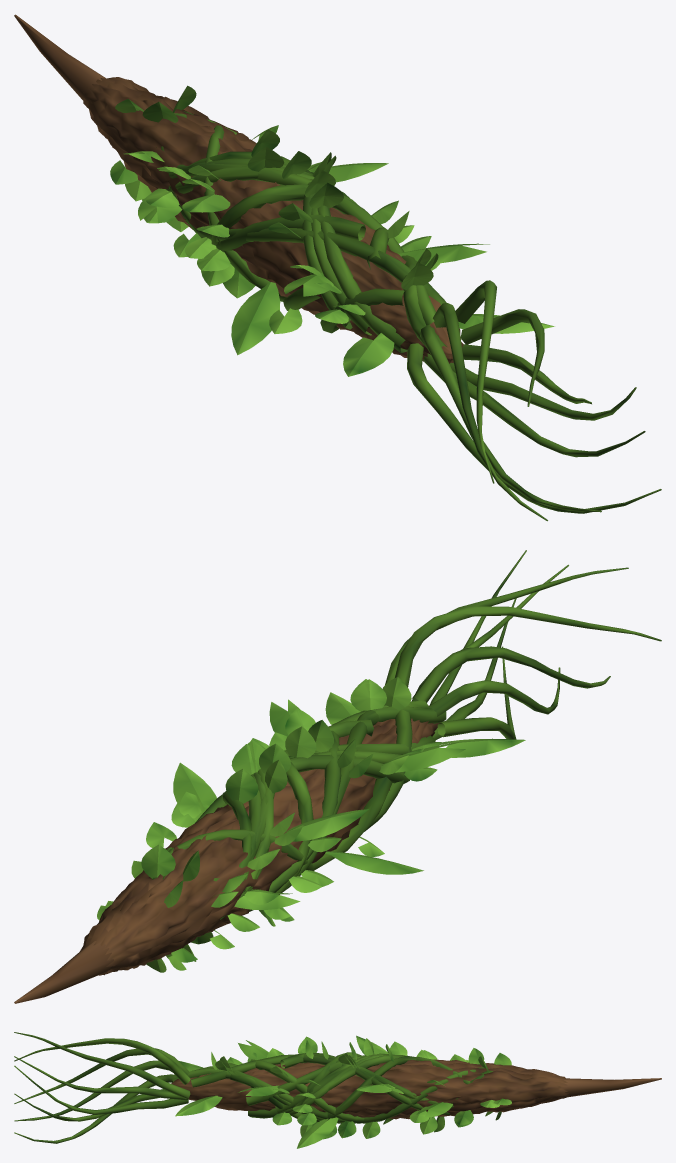
File: verdane_small.glb
3 renders of one model, top to bottom at view 1: azimuth 30°, elevation 25°; view 2: azimuth 150°, elevation 25°; view 3: azimuth 270°, elevation 25°, orthographic. The views are drawn at different scales.
Parts seen in each view (by area): view 1: verdane_small.001; view 2: verdane_small.001; view 3: verdane_small.001.
Part boxes in pixels (x1=…): verdane_small.001: x1=14, y1=14, x2=661, y2=521; verdane_small.001: x1=14, y1=550, x2=661, y2=1003; verdane_small.001: x1=14, y1=1032, x2=661, y2=1148.
Size of the model in its own units: 2.09 by 1.67 by 10.
